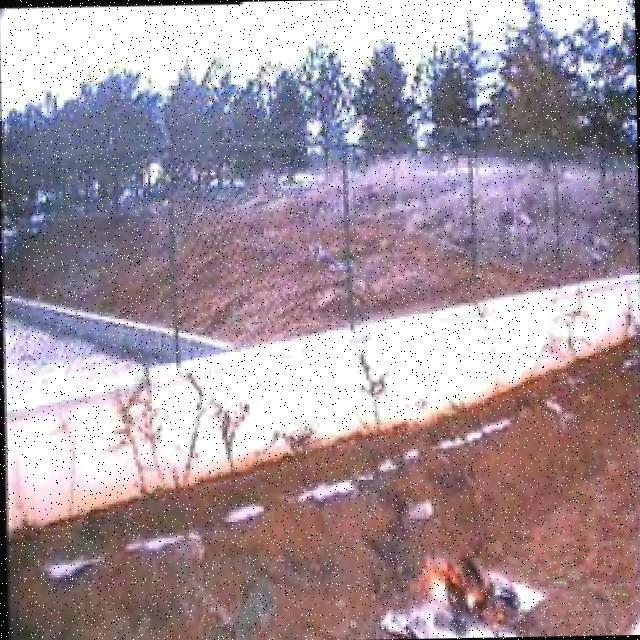Fire: (399, 544, 524, 635)
